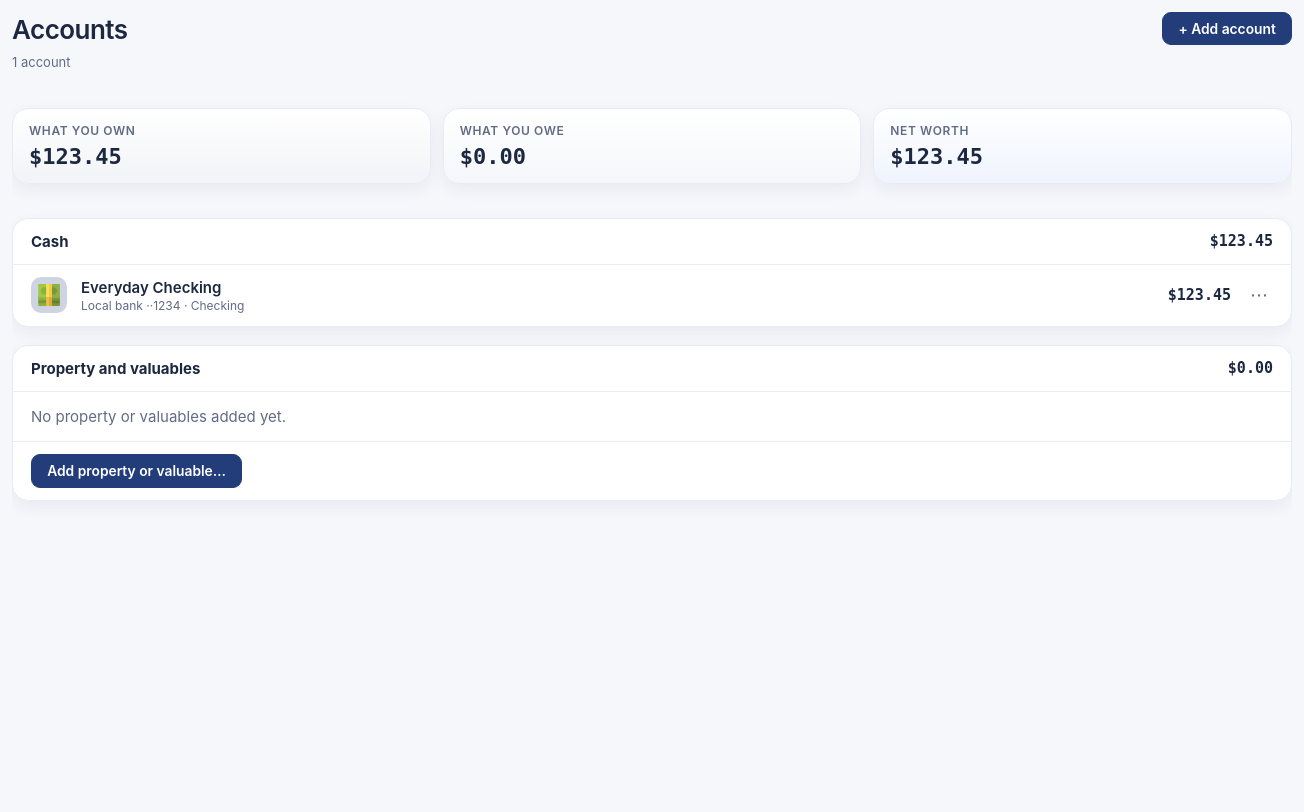
Test: account rows › balance editing keeps its own action
Click the button with class "bal" at (1199, 296), box [1168,282,1231,310]
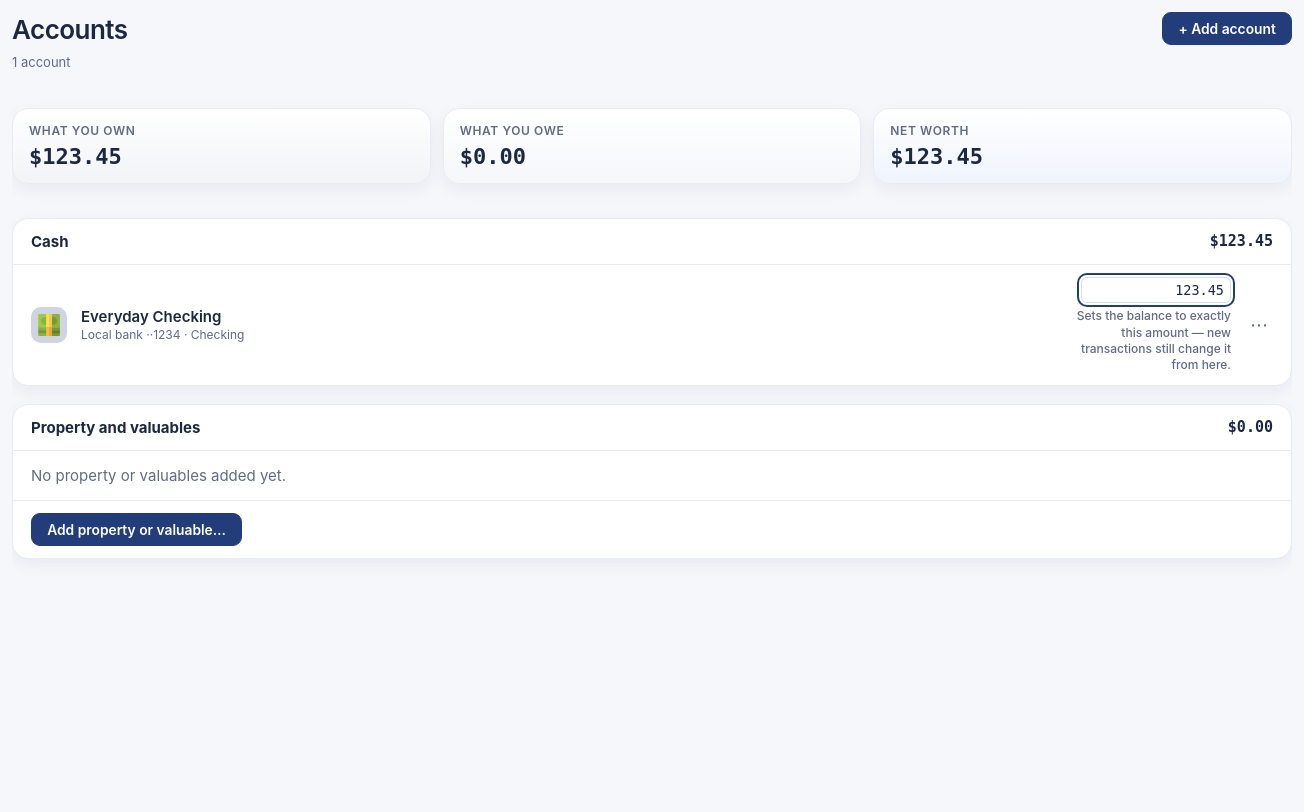
Result: the field with class "amount-edit-input" holds "123.45" at [1081,277,1231,304]
